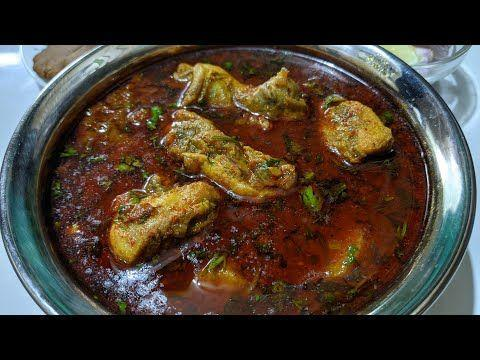chicken: (43, 72, 453, 312)
